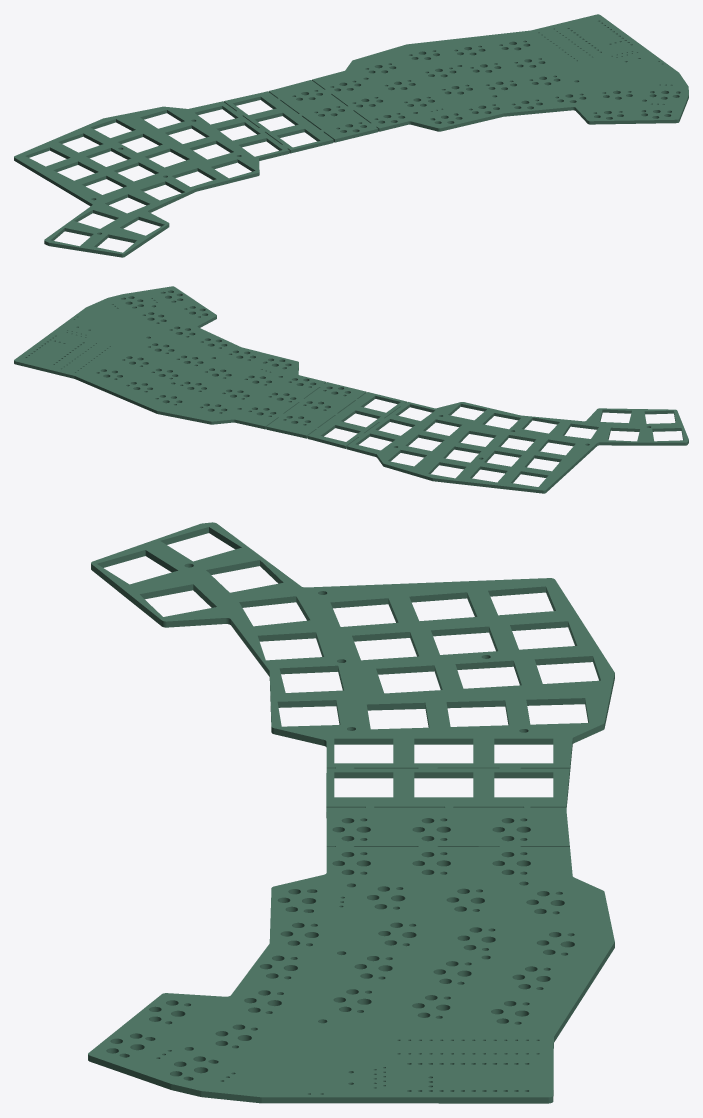
Rendered from Unnamed-voltacity_26x2 1voltacity_26x2_PCB.gltf.
The picture shows the model from 3 angles, top to bottom: view 1: azimuth 30°, elevation 25°; view 2: azimuth 150°, elevation 25°; view 3: azimuth 270°, elevation 25°; orthographic projection. The views are drawn at different scales.
Parts seen in each view (by area): view 1: voltacity_26x2_PCB; view 2: voltacity_26x2_PCB; view 3: voltacity_26x2_PCB.
Boxes of the visible parts, x1=… form: voltacity_26x2_PCB: x1=14, y1=14, x2=688, y2=257; voltacity_26x2_PCB: x1=14, y1=286, x2=688, y2=493; voltacity_26x2_PCB: x1=88, y1=522, x2=614, y2=1103.
Size of the model in its own units: 0.3231 by 0.0016 by 0.1251.
